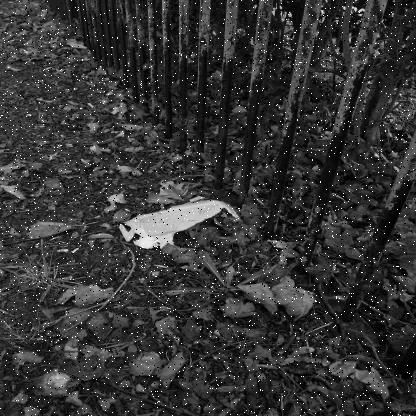foam: (119, 200, 239, 250)
